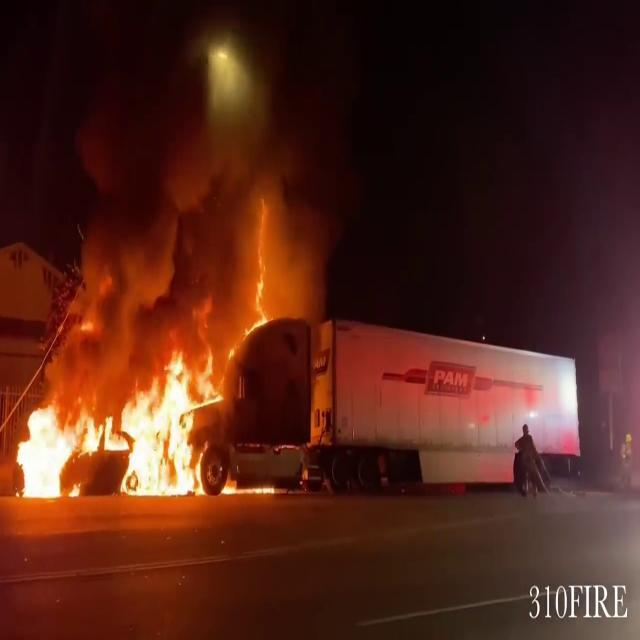Fire: (4, 342, 228, 504)
Smoke: (64, 80, 358, 340)
